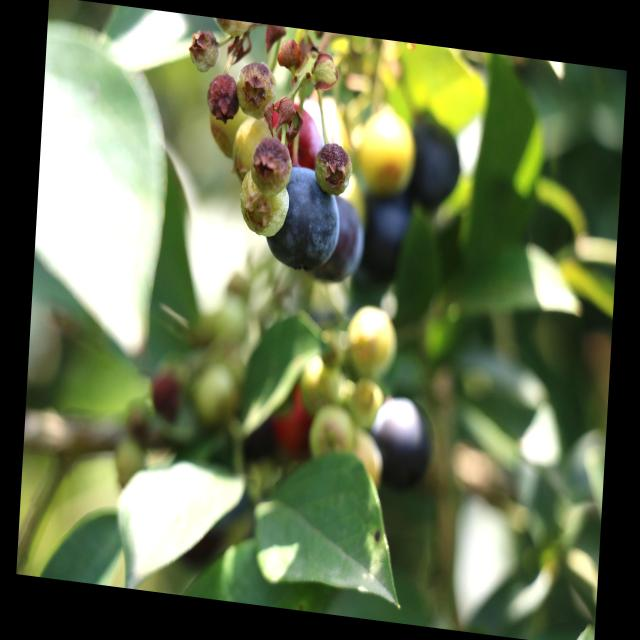blueberry: (258, 161, 341, 275), (366, 391, 441, 494), (402, 117, 467, 210), (303, 190, 366, 284), (356, 183, 415, 282)
blueberry-halfripe: (264, 98, 324, 174)
blueberry-unripe: (237, 160, 291, 239), (208, 92, 246, 159), (233, 111, 270, 176)
